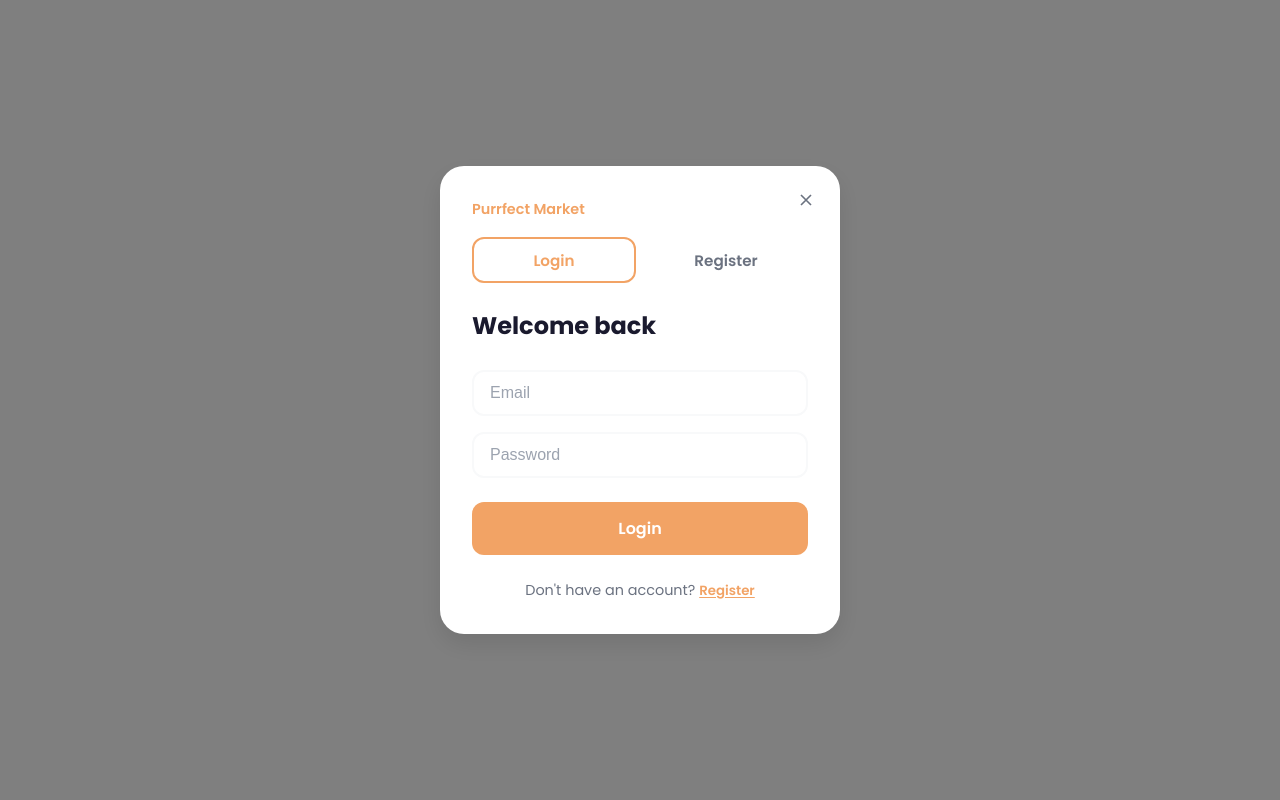
Test: AuthModal › shows an error message and keeps the modal open when login fails
Step 1. Type "a@b.com" into the field with placeholder "Email" → (640, 393), box [472, 370, 808, 416]
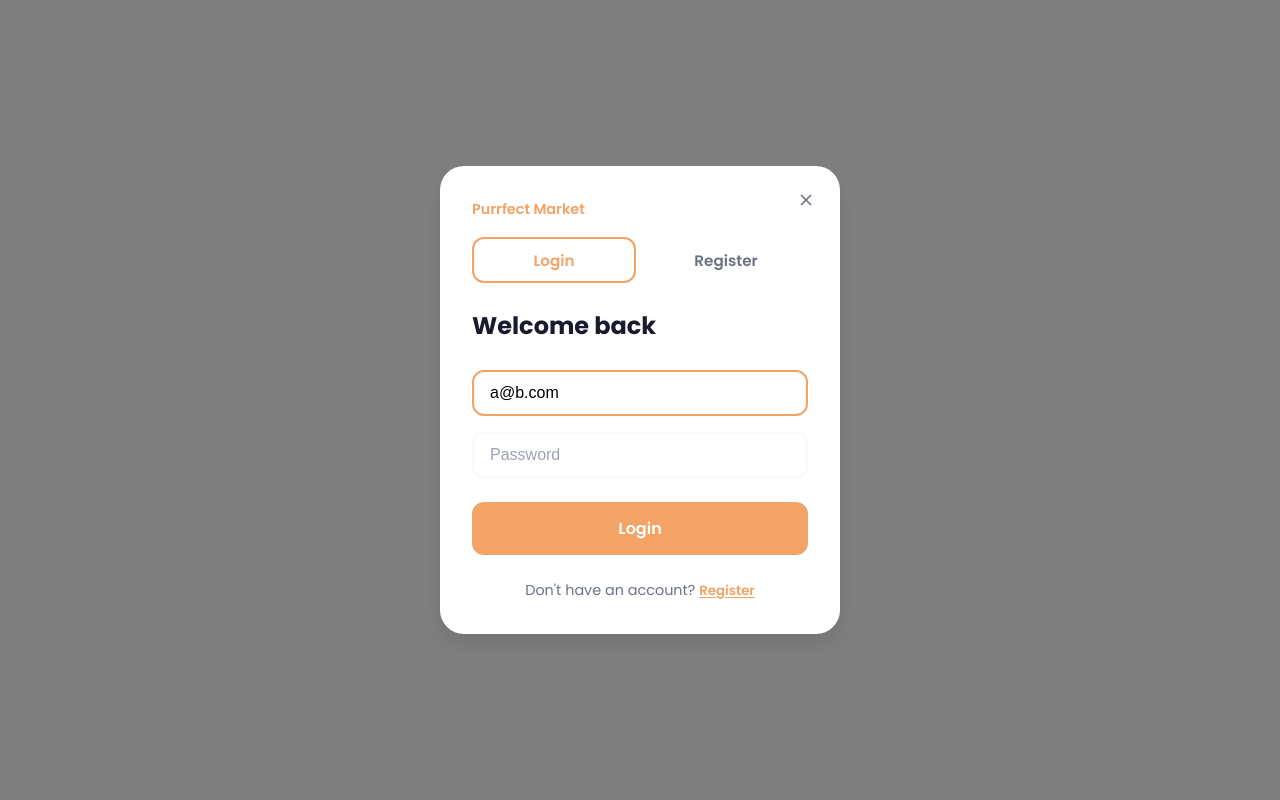
Step 2. Type "wrong" into the password field with placeholder "Password" → (640, 455), box [472, 432, 808, 478]
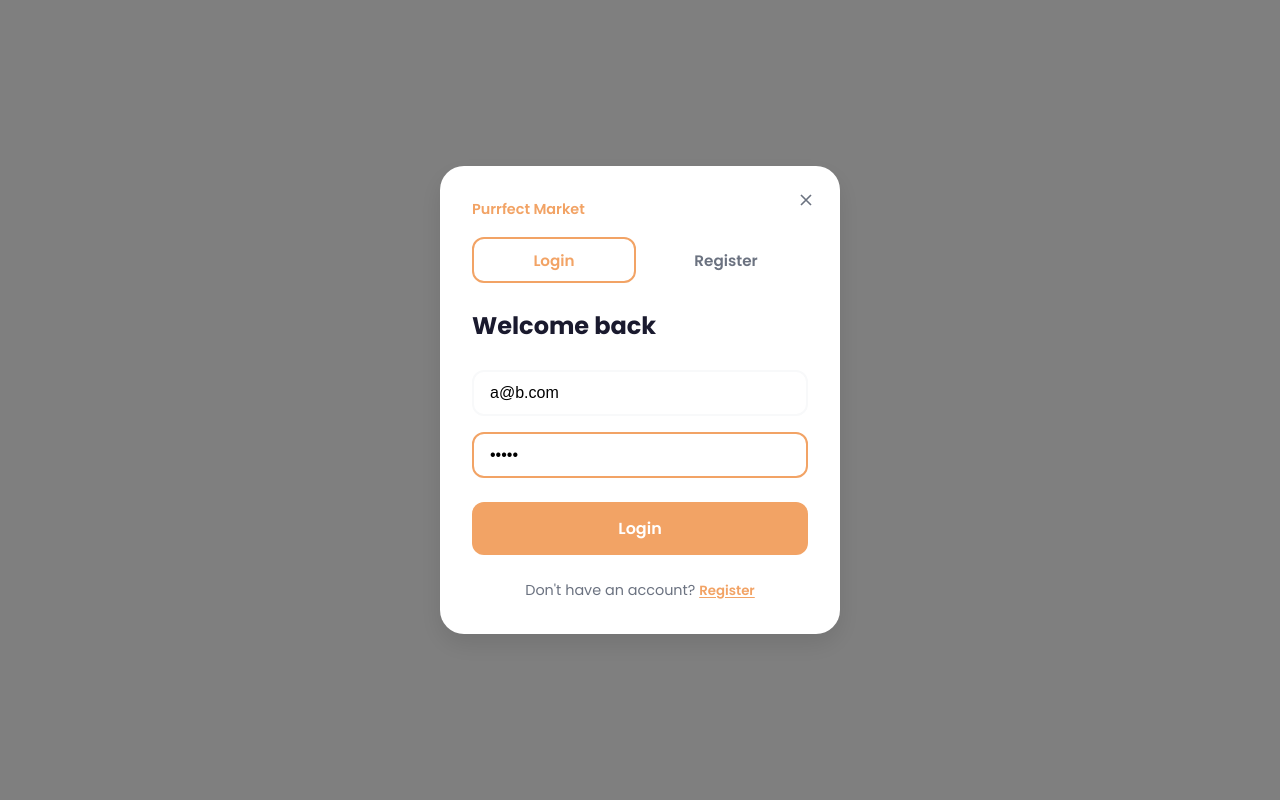
# "Login" appears both as the tab and as the form's submit button — the submit button is last in the DOM.
Step 3. Click the 2nd button "Login" → (640, 528), box [472, 502, 808, 555]
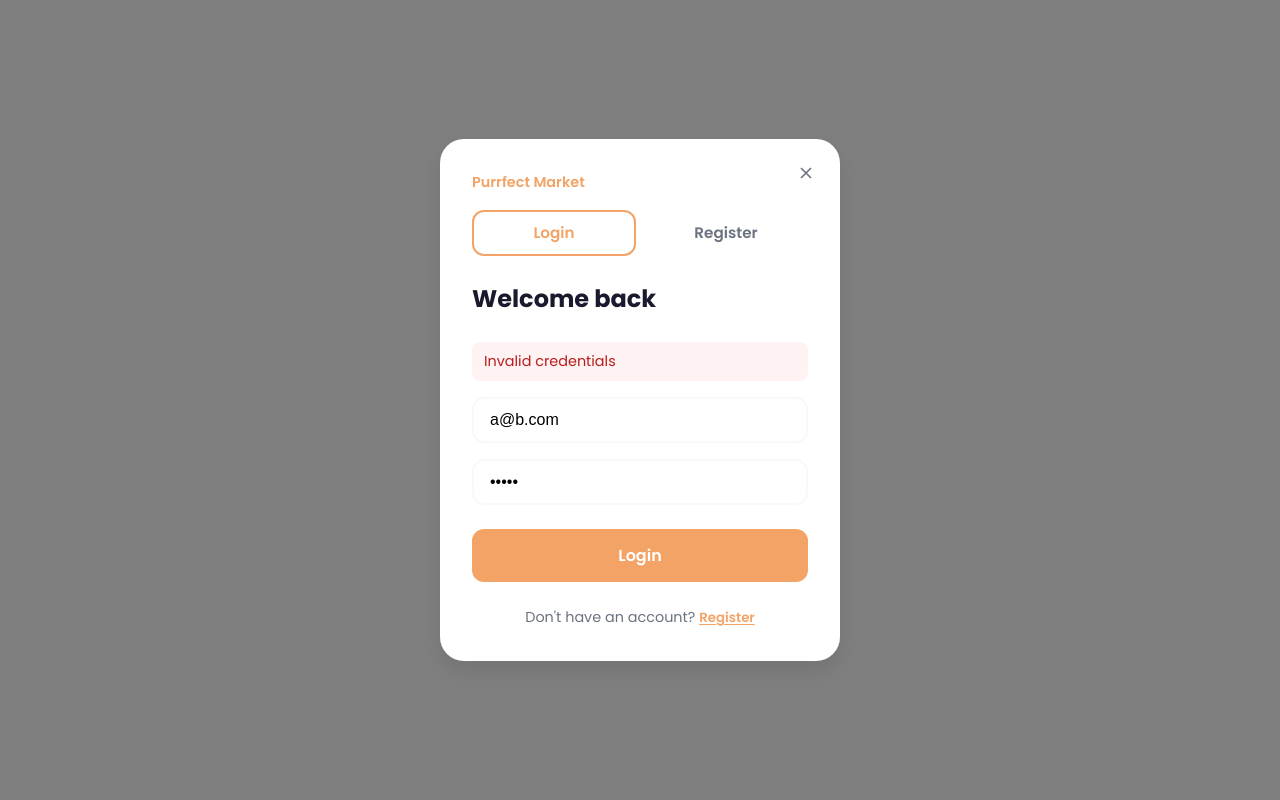
Result: the text "Invalid credentials" is shown at [472, 342, 808, 381]
